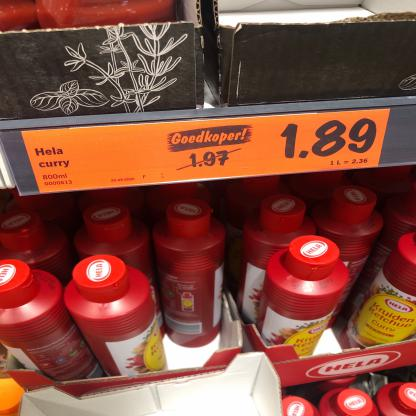prtg: (22, 110, 391, 194)
